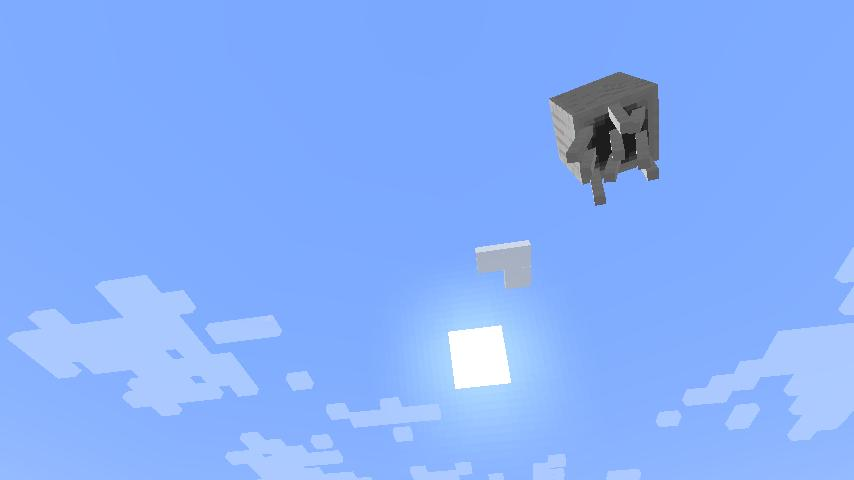ghast: (549, 71, 661, 208)
